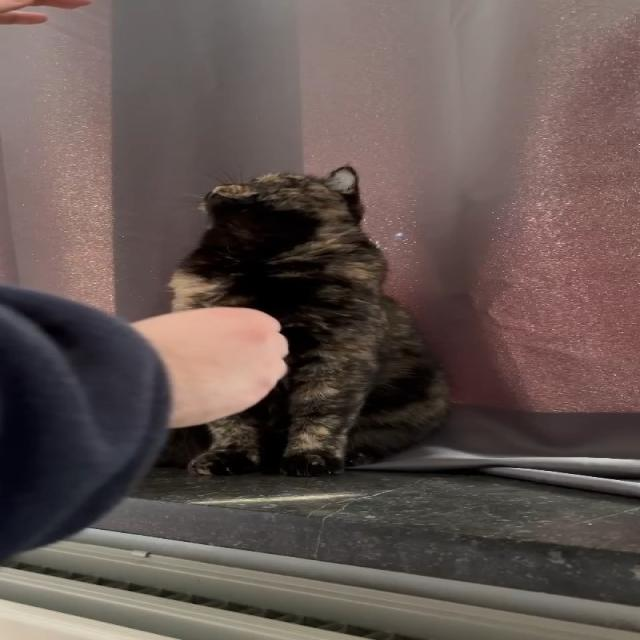authorized: (164, 165, 451, 477)
